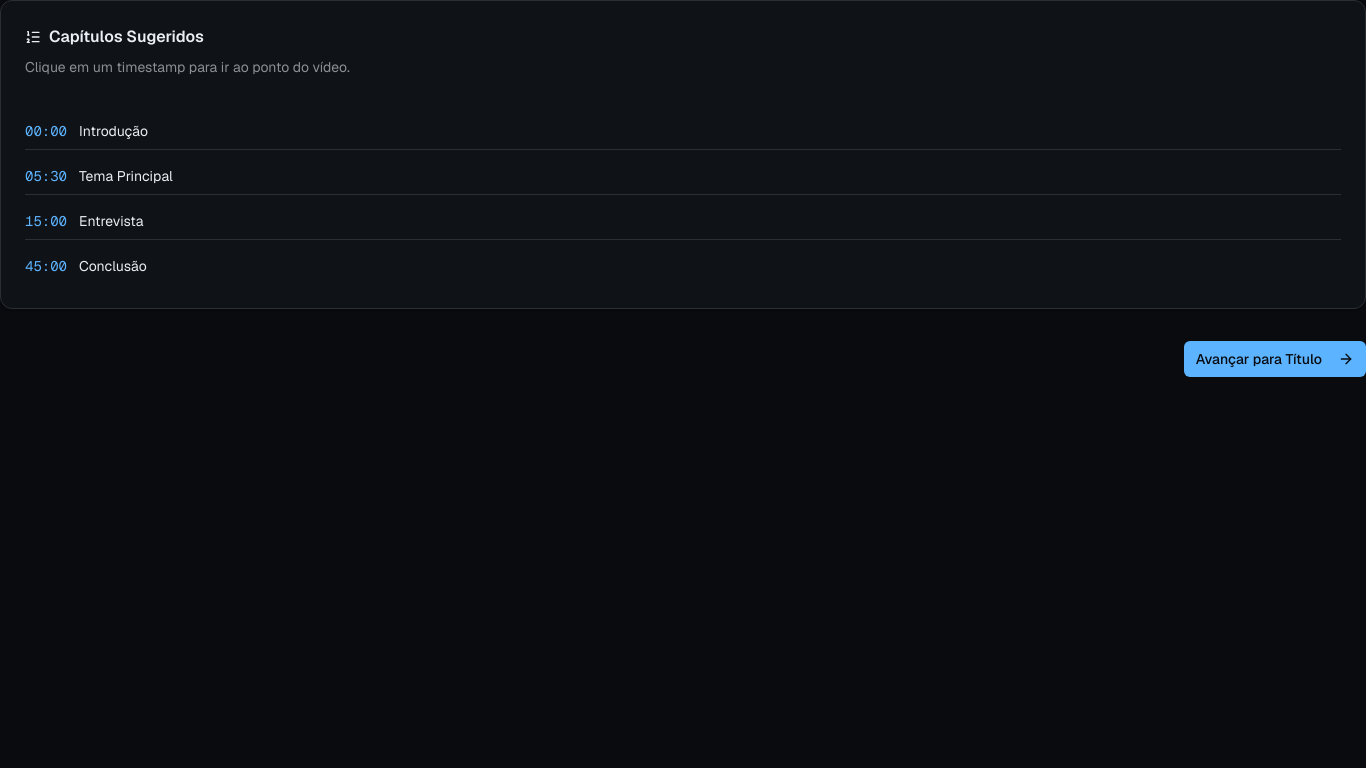
Test: Phase4Chapters › Advance with approval › shows approval dialog when advance is clicked
This screenshot has width=1366, height=768.
Click the button "Avançar para Título": [1275, 359] box [1184,341,1365,377]
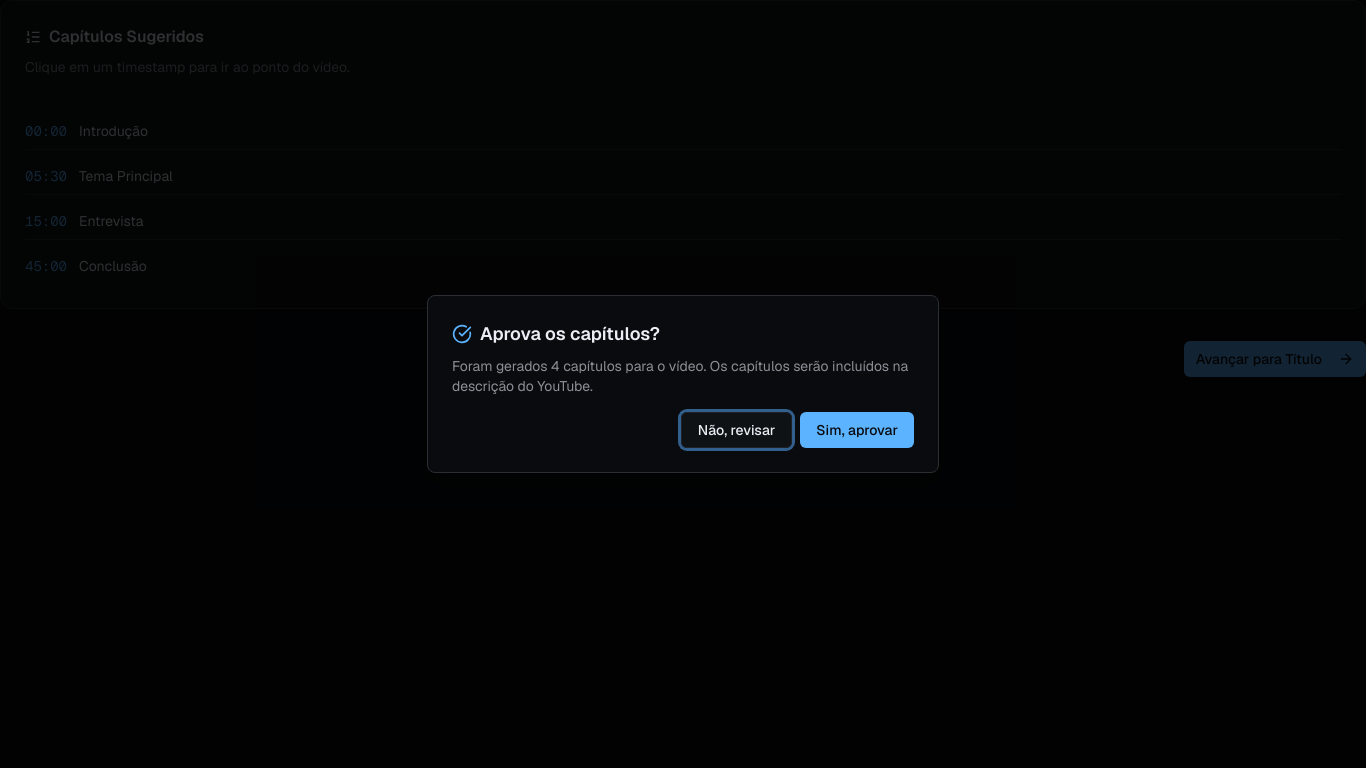
Expected: the heading "Aprova os capítulos?" is shown, [452,322,660,345]
